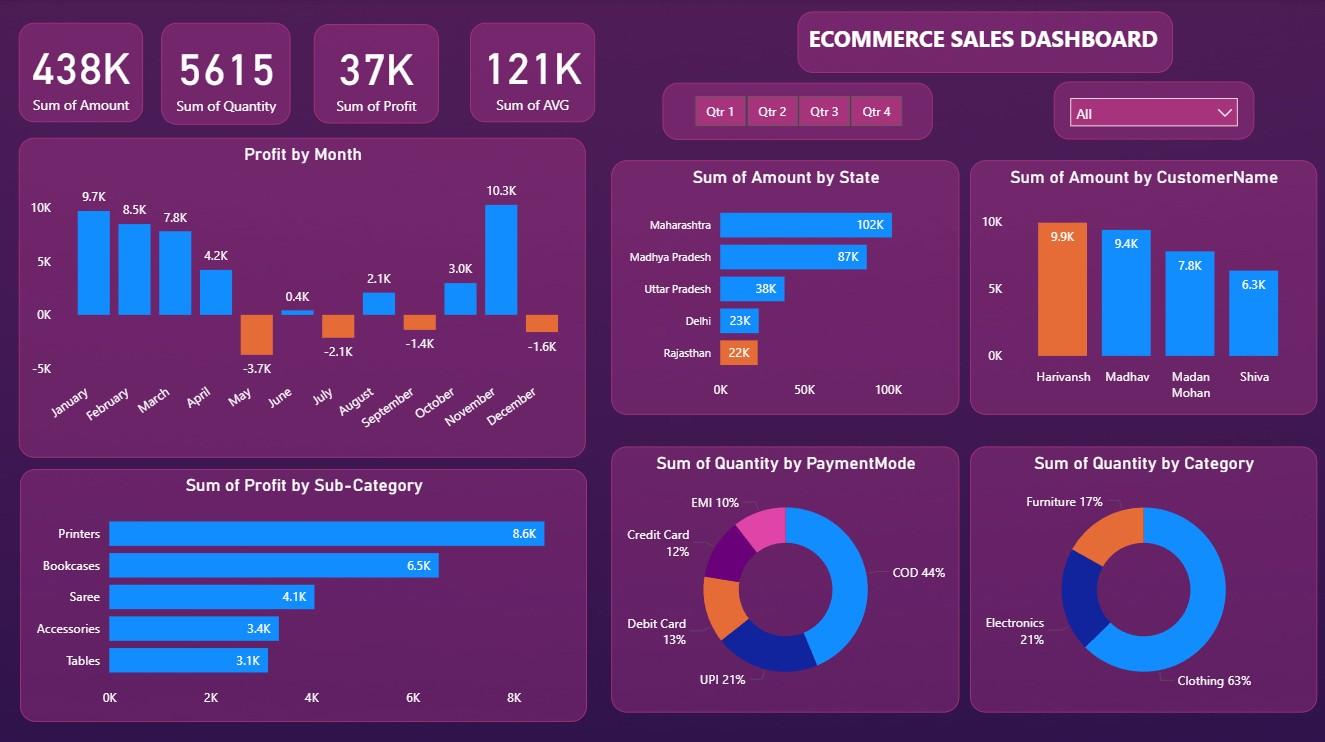

The dashboard page shown, as its layout file describes it:
{"tool":"powerbi","page":{"name":"Page 1","canvas":[1280,720],"ordinal":0},"visuals":[{"type":"columnChart","title":"Profit by Month","fields":{"Category":["Orders.Order Date.Variation.Date Hierarchy.Month"],"Y":["Details.Profit"]},"box":[17.8,134.5,547.5,308.7],"z":0},{"type":"barChart","fields":{"Category":["Details.Sub-Category"],"Y":["Details.Profit"]},"box":[19.2,454.2,547.5,244.3],"z":1000},{"type":"donutChart","fields":{"Category":["Details.Category"],"Y":["Details.Quantity"]},"box":[935.9,432.2,334.8,256.6],"z":2000},{"type":"donutChart","fields":{"Y":["Details.Quantity"],"Category":["Details.PaymentMode"]},"box":[590.1,432.2,336.2,256.6],"z":3000},{"type":"card","fields":{"Values":["Details.Amount"]},"box":[17.8,23.3,120,95.9],"z":4000},{"type":"card","fields":{"Values":["Details.Quantity"]},"box":[156.2,23.3,125,98],"z":5000},{"type":"card","fields":{"Values":["Details.Profit"]},"box":[302.7,24.7,120.5,95.9],"z":6000},{"type":"card","fields":{"Values":["Details.AVG"]},"box":[453.4,23.3,120.5,95.9],"z":7000},{"type":"barChart","fields":{"Category":["Orders.State"],"Y":["Details.Amount"]},"box":[590.1,155.1,336.2,245.6],"z":8000},{"type":"columnChart","fields":{"Category":["Orders.CustomerName"],"Y":["Details.Amount"]},"box":[935.9,155.1,334.8,245.6],"z":9000},{"type":"slicer","fields":{"Values":["Orders.Order Date.Variation.Date Hierarchy.Quarter"]},"box":[639.5,81,260.7,54.9],"z":10000},{"type":"slicer","fields":{"Values":["Orders.State"]},"box":[1016.8,79.6,193.5,56.3],"z":11000},{"type":"textbox","box":[769.7,12.1,369.2,59.1],"z":12000}]}

Visuals, with their boxes in screenshot pixels (x1, y1, x2, y2), scaled from the page's 1280x720 canvas onto the 1325x742 screenshot:
"Profit by Month" columnChart: (left=18, top=139, right=585, bottom=457)
barChart - Details.Sub-Category x Details.Profit: (left=20, top=468, right=587, bottom=720)
donutChart - Details.Category x Details.Quantity: (left=969, top=445, right=1315, bottom=710)
donutChart - Details.Quantity x Details.PaymentMode: (left=611, top=445, right=959, bottom=710)
card - Details.Amount: (left=18, top=24, right=143, bottom=123)
card - Details.Quantity: (left=162, top=24, right=291, bottom=125)
card - Details.Profit: (left=313, top=25, right=438, bottom=124)
card - Details.AVG: (left=469, top=24, right=594, bottom=123)
barChart - Orders.State x Details.Amount: (left=611, top=160, right=959, bottom=413)
columnChart - Orders.CustomerName x Details.Amount: (left=969, top=160, right=1315, bottom=413)
slicer - Orders.Order Date.Variation.Date Hierarchy.Quarter: (left=662, top=83, right=932, bottom=140)
slicer - Orders.State: (left=1053, top=82, right=1253, bottom=140)
textbox: (left=797, top=12, right=1179, bottom=73)
